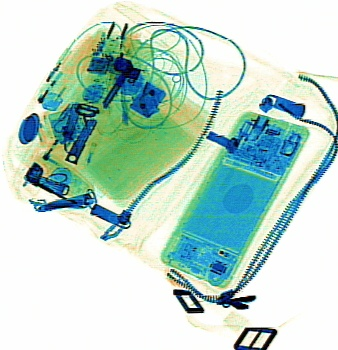lighter: (32, 29, 106, 111), (15, 117, 77, 197)
